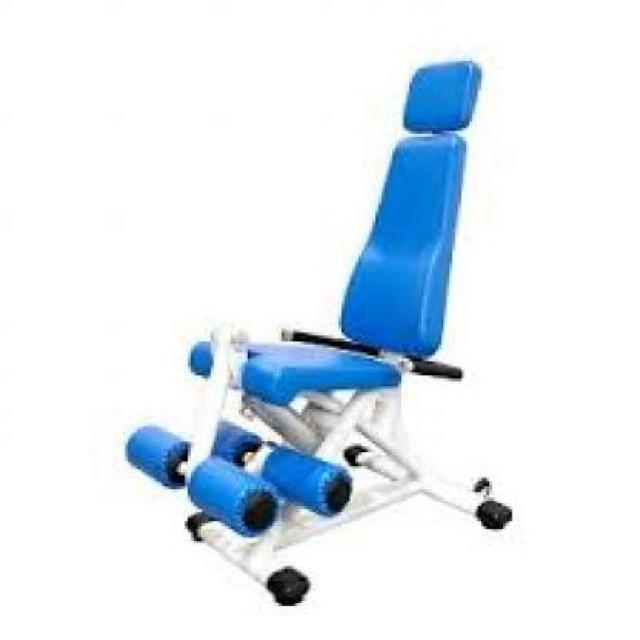leg extension: (114, 54, 529, 617)
